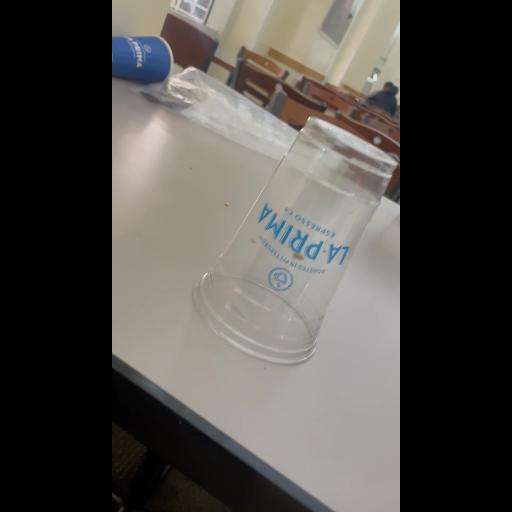lp_plastic_cup: (192, 119, 396, 361)
